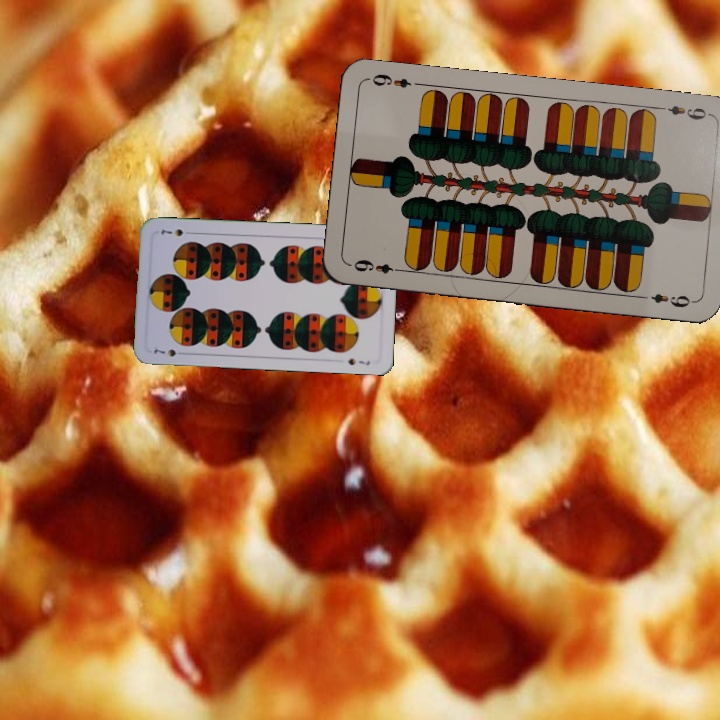E9: (654, 101, 714, 123), (347, 255, 406, 276)
S7: (150, 344, 188, 359)
